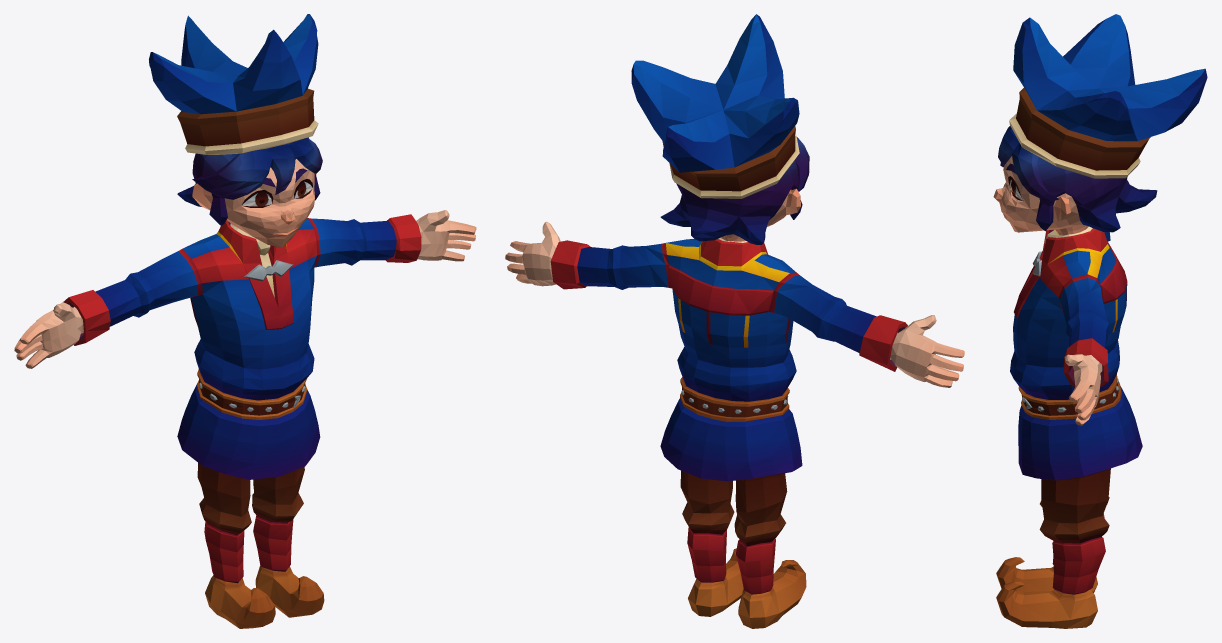
The model's file is before.glb.
The picture shows the model from 3 angles, left to right: view 1: azimuth 30°, elevation 25°; view 2: azimuth 150°, elevation 25°; view 3: azimuth 270°, elevation 25°; orthographic projection.
Visible parts, largest first — view 1: world; view 2: world; view 3: world.
Boxes of the visible parts, x1=… form: world: x1=14, y1=14, x2=476, y2=628; world: x1=505, y1=14, x2=964, y2=628; world: x1=993, y1=14, x2=1207, y2=628.
Size of the model in its own units: 1.22 by 1.5 by 0.4891.
Materials: 1 (1 with a texture image).
